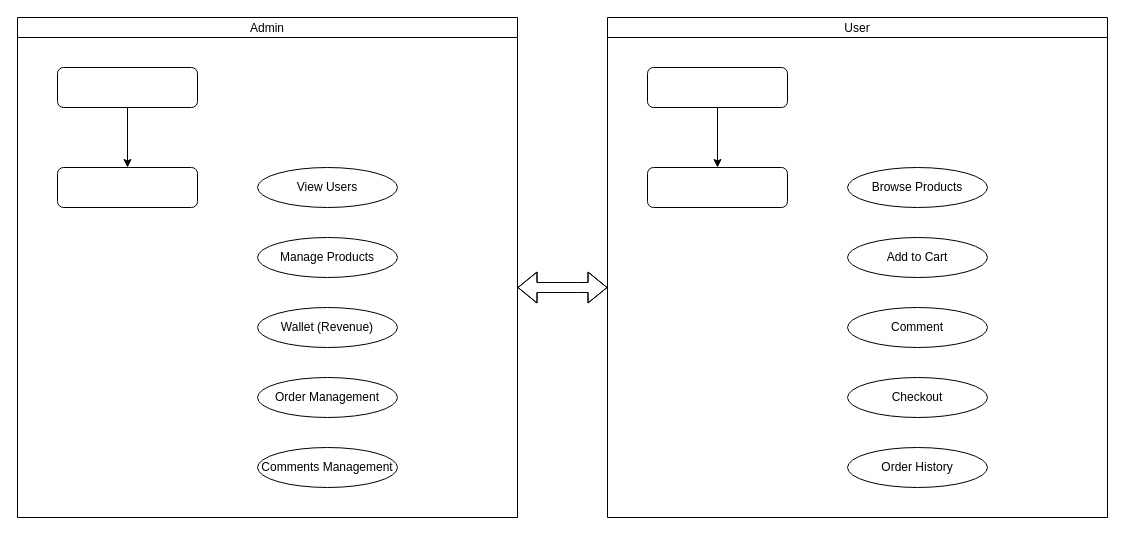
This 1125x535 diagram has some shape labels left out. The shapes that lost their labels are listed below. From the top down, each one's centre as x and y in pixels, then its label:
point (127, 87): Admin Login
point (717, 87): User Login/Signup
point (127, 187): Admin Dashboard
point (717, 187): User Dashboard
